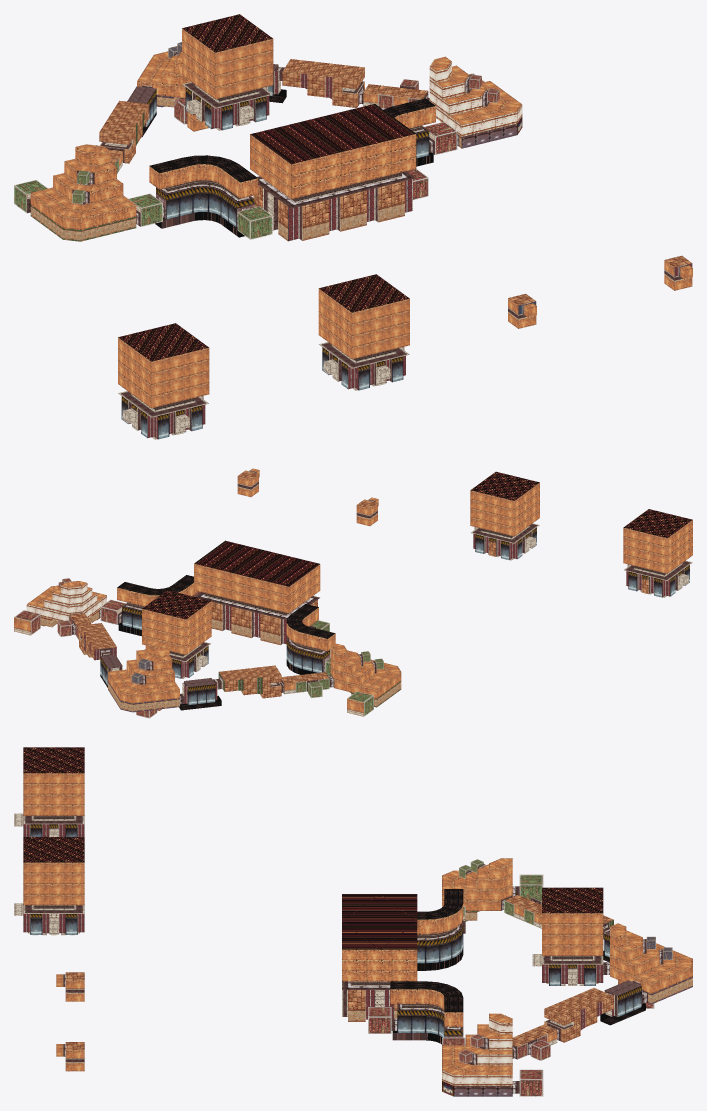
The model's file is EggQuarters.obj.
3 renders of one model, top to bottom at view 1: azimuth 30°, elevation 25°; view 2: azimuth 150°, elevation 25°; view 3: azimuth 270°, elevation 25°, orthographic. The views are drawn at different scales.
Size of the model in its own units: 2760 by 490 by 2887.
40 materials, 40 textured.
